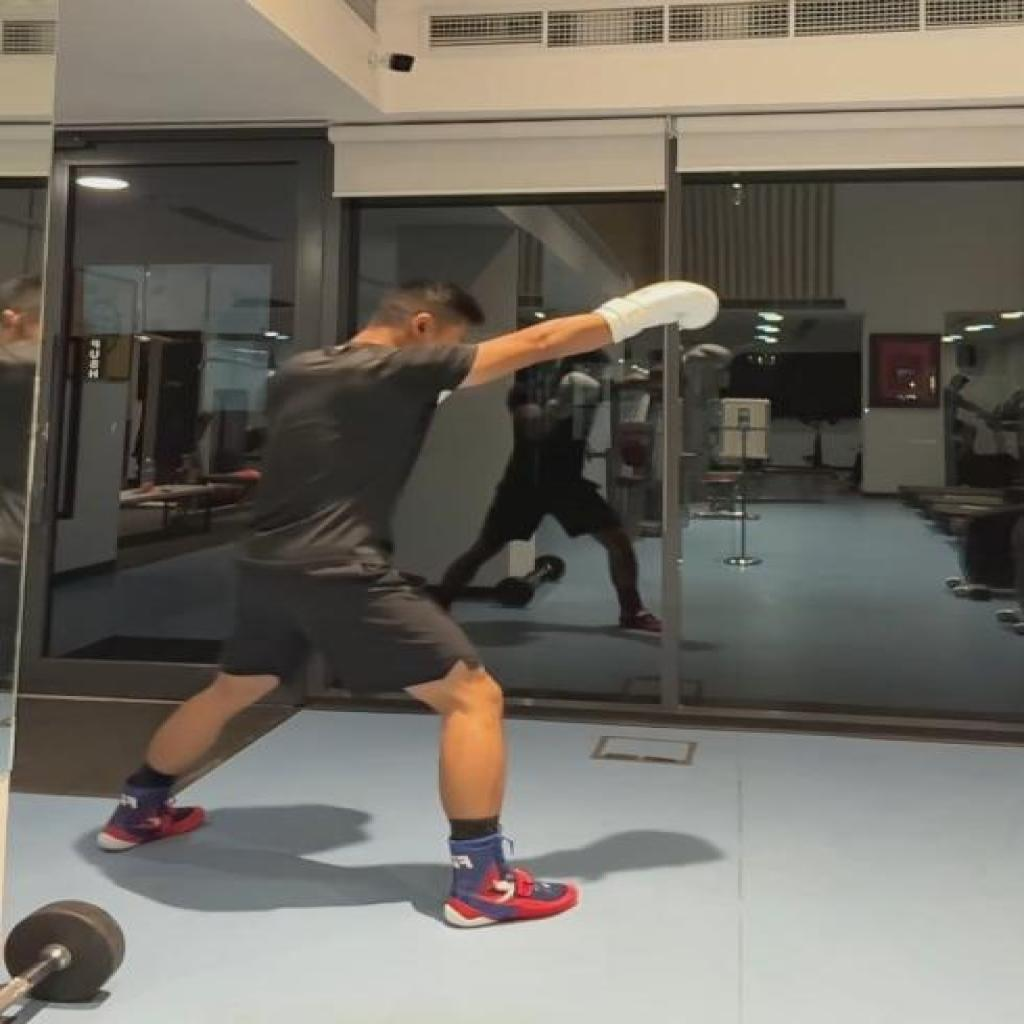jab: (98, 275, 727, 939)
